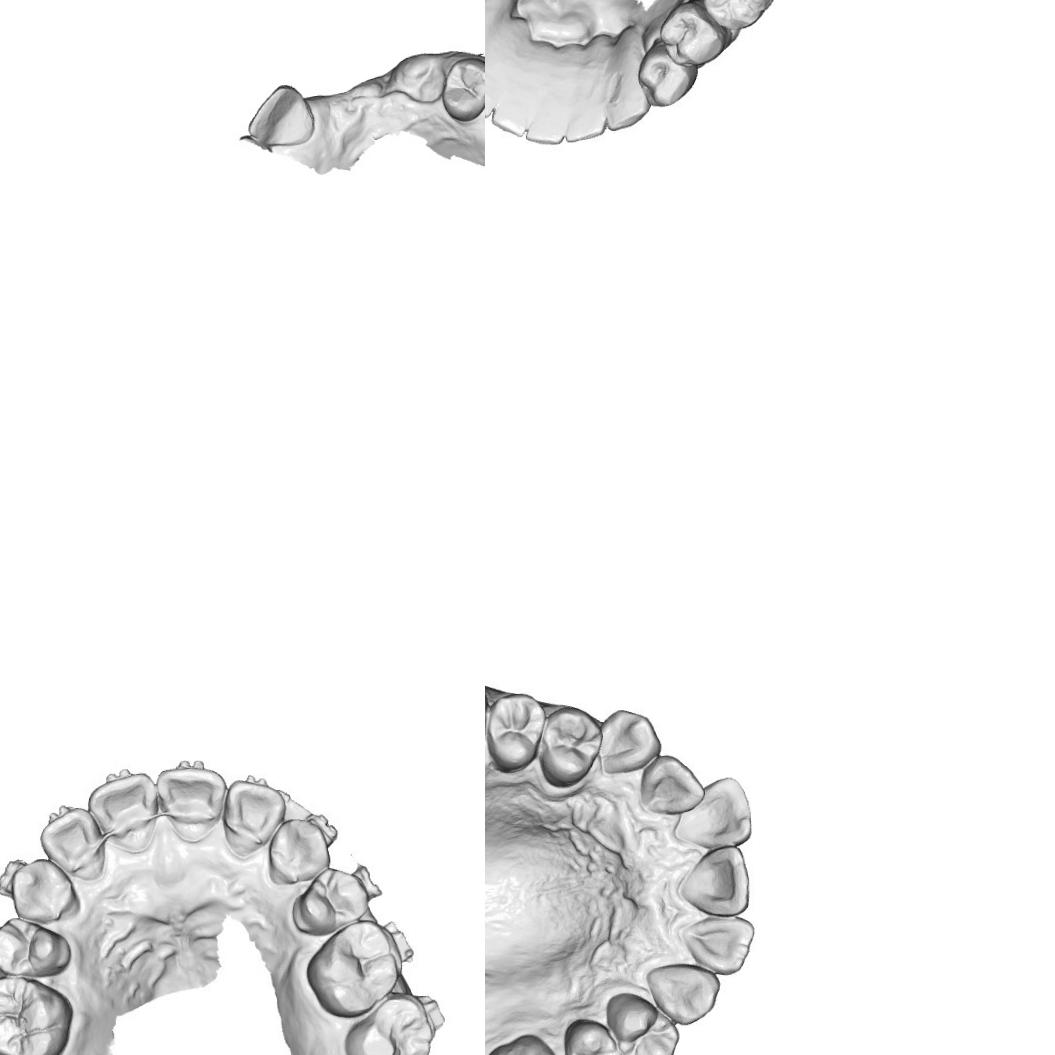canine: (263, 813, 335, 889), (594, 706, 664, 778), (7, 860, 78, 926), (605, 30, 651, 130), (652, 961, 722, 1024)
incisor: (684, 846, 754, 923), (88, 774, 156, 852), (668, 780, 748, 846), (160, 764, 225, 842), (245, 82, 317, 148), (685, 910, 759, 974), (225, 779, 287, 852), (44, 808, 101, 876), (640, 752, 701, 811), (494, 79, 540, 133), (524, 103, 566, 145), (569, 96, 606, 140), (485, 65, 506, 115)
molar: (319, 922, 397, 1020), (0, 973, 79, 1055), (343, 991, 434, 1055), (485, 1035, 575, 1055), (709, 0, 772, 27)
premolar: (538, 707, 598, 798), (604, 990, 683, 1055), (485, 688, 542, 778), (290, 870, 364, 939), (0, 915, 70, 980), (667, 8, 726, 66), (640, 44, 694, 104), (439, 55, 485, 124), (563, 1014, 621, 1055)
